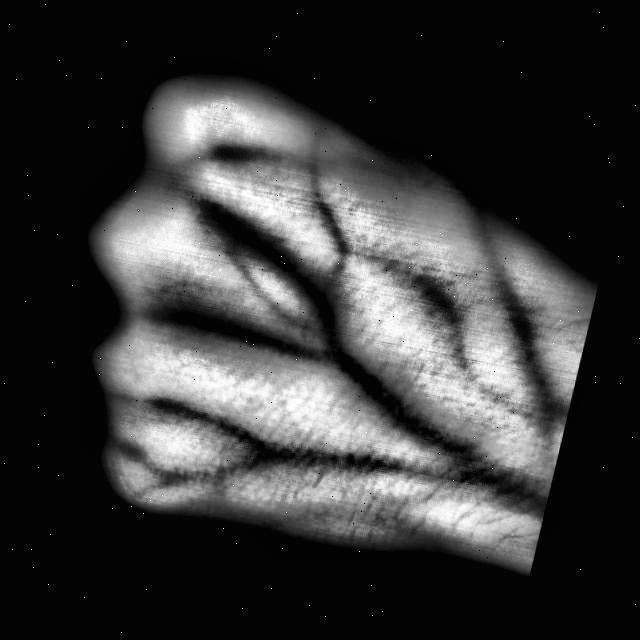Vein: (333, 345, 508, 493)
